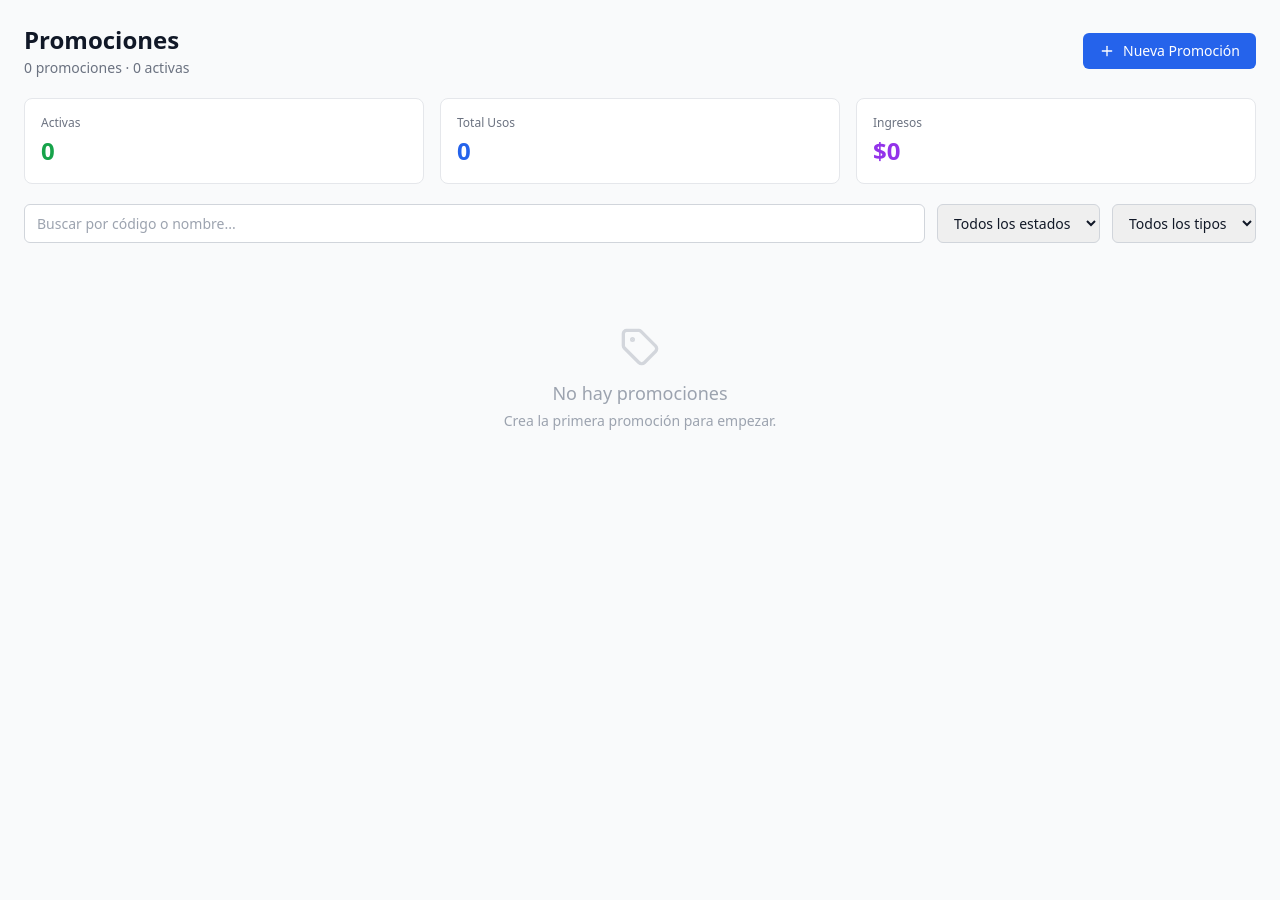
PromotionsPage › el modal no ofrece trial_extension ni plan Free (v1)
Click the button "Nueva Promoción".
click(1170, 51)  # box [1083, 33, 1256, 69]
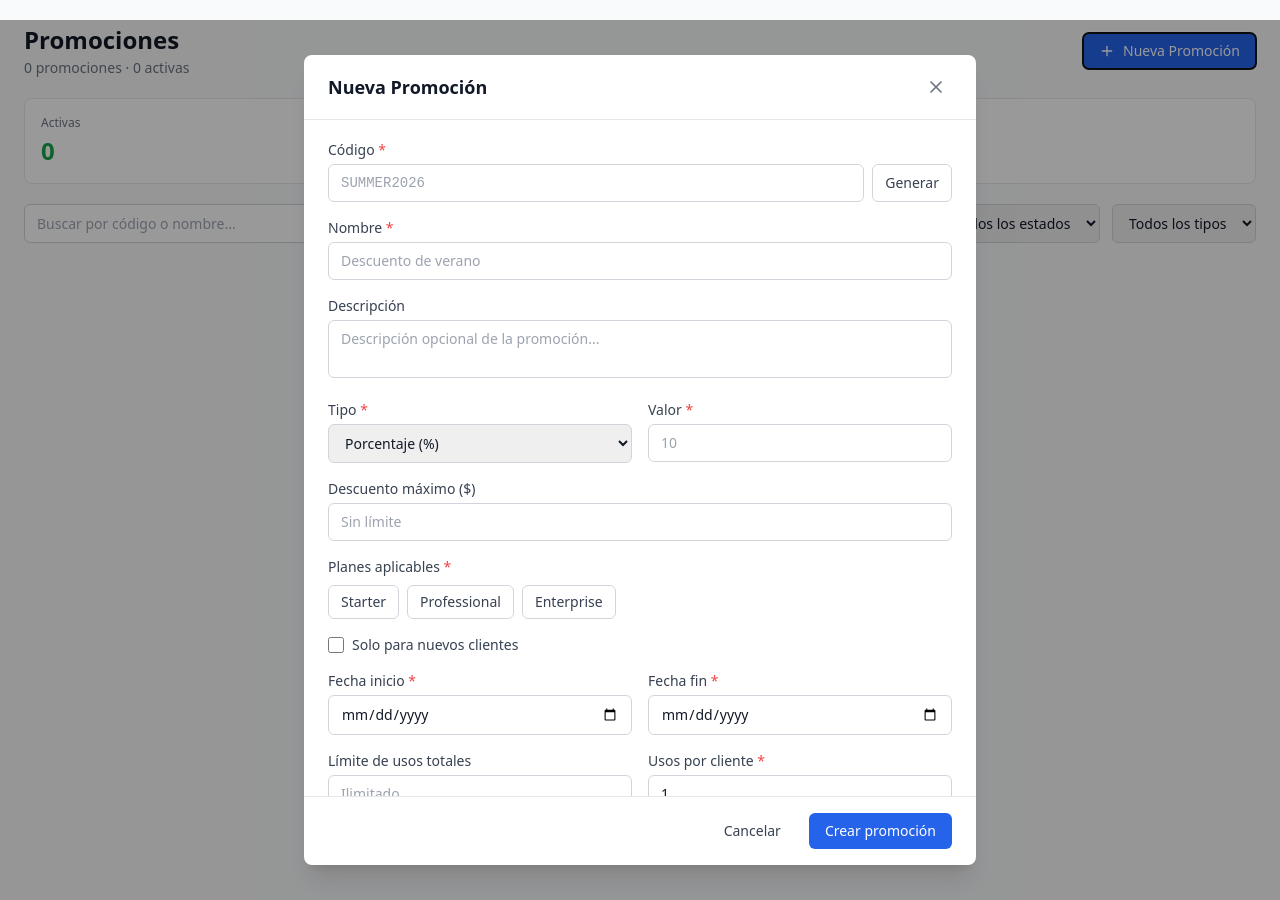
Now the button "Starter" is shown, box [328, 585, 399, 619]
